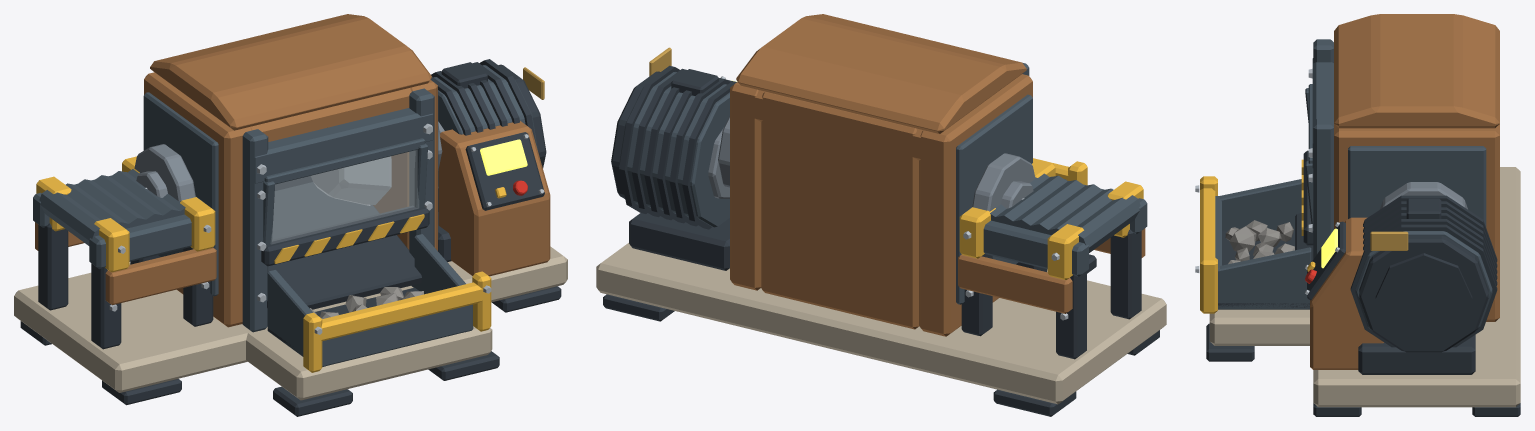
The model's file is Auto_Cracker.fbx.
3 renders of one model, left to right at view 1: azimuth 30°, elevation 25°; view 2: azimuth 150°, elevation 25°; view 3: azimuth 270°, elevation 25°, orthographic. The views are drawn at different scales.
Visible parts, largest first — view 1: Wood, Frame, FrameDark, Concrete, Amber, Hood, JawR, Steel, Lamp, SteelLight, Fill.001; view 2: Wood, Concrete, FrameDark, Frame, Amber, Steel; view 3: Wood, FrameDark, Frame, Concrete, Amber, Fill.001, Steel, Brass, Lamp, SteelLight.
Boxes of the visible parts, x1,y1,x2,y2 form: Wood: (35, 14, 550, 327); Frame: (33, 65, 537, 366); FrameDark: (20, 59, 561, 416); Concrete: (14, 246, 567, 400); Amber: (36, 156, 506, 372); Hood: (270, 150, 418, 244); JawR: (311, 156, 391, 205); Steel: (134, 121, 444, 201); Lamp: (480, 139, 527, 175); SteelLight: (109, 123, 544, 334); Fill.001: (310, 287, 423, 318); Wood: (730, 14, 1145, 336); Concrete: (596, 243, 1166, 404); FrameDark: (603, 65, 1159, 416); Frame: (619, 62, 1147, 304); Amber: (959, 158, 1143, 279); Steel: (708, 116, 1035, 211); Wood: (1310, 14, 1499, 369); FrameDark: (1206, 150, 1520, 416); Frame: (1215, 39, 1492, 329); Concrete: (1209, 167, 1520, 407); Amber: (1200, 159, 1315, 313); Fill.001: (1225, 220, 1294, 264); Steel: (1380, 182, 1467, 209); Brass: (1370, 231, 1408, 250); Lamp: (1321, 228, 1337, 268); SteelLight: (1195, 68, 1339, 294).
Size of the model in its own units: 7.49 by 4.05 by 4.71.
